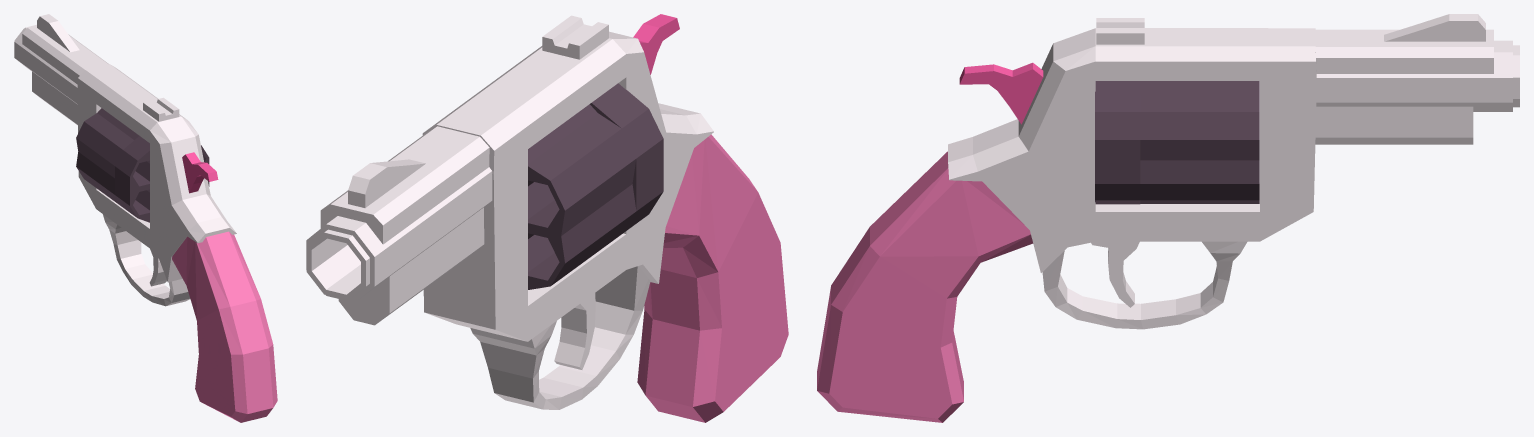
File: Revolver_4.obj
3 views of the same model, side by side, from view 1: azimuth 30°, elevation 25°; view 2: azimuth 150°, elevation 25°; view 3: azimuth 270°, elevation 25° (orthographic). The views are drawn at different scales.
Visible parts, largest first — view 1: Body, Grip, Cylinder, Accent; view 2: Body, Grip, Cylinder, Accent; view 3: Body, Grip, Cylinder, Accent.
Boxes of the visible parts, bbox=[...] form: Body: bbox=[14, 14, 236, 306]; Grip: bbox=[172, 231, 277, 422]; Cylinder: bbox=[76, 108, 209, 222]; Accent: bbox=[182, 152, 218, 193]; Body: bbox=[306, 15, 713, 409]; Grip: bbox=[637, 134, 788, 422]; Cylinder: bbox=[528, 83, 663, 289]; Accent: bbox=[633, 14, 679, 74]; Body: bbox=[948, 14, 1519, 329]; Grip: bbox=[817, 151, 1033, 422]; Cylinder: bbox=[1095, 81, 1259, 204]; Accent: bbox=[959, 62, 1043, 124].
Bounding box in the file's own units: 0.6796 × 2.11 × 3.4.
